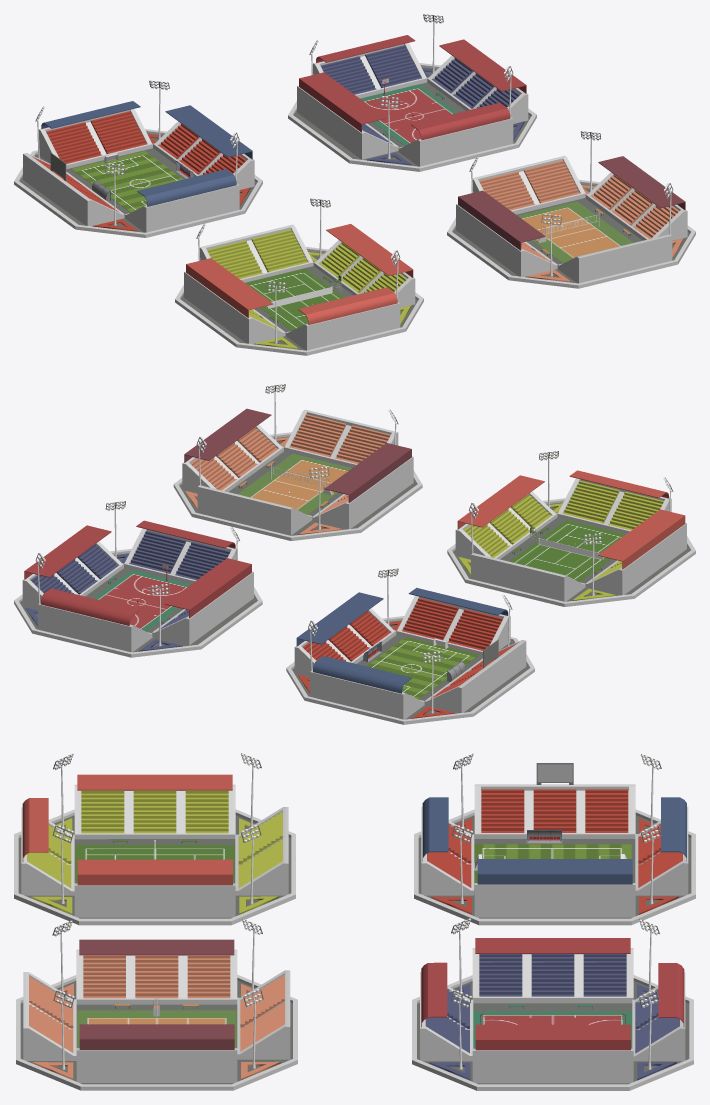
File: Cartoon Stadiums Pack.FBX
3 renders of one model, top to bottom at view 1: azimuth 30°, elevation 25°; view 2: azimuth 150°, elevation 25°; view 3: azimuth 270°, elevation 25°, orthographic. The views are drawn at different scales.
Parts seen in each view (by area): view 1: Stadium Seats (×16), Volleyball Ground, Ground 2, Football Ground, Ground 3, Ground, Ground 4, Basketball ground, Tennis Ground; view 2: Stadium Seats (×16), Volleyball Ground, Tennis Ground, Football Ground, Ground 4, Ground 2, Ground 3, Ground, Basketball ground; view 3: Stadium Seats (×16), Ground, Ground 4, Ground 2, Ground 3, Triangle Decoration (×4), Tennis Ground, Volleyball Ground, Football Ground, Basketball ground, Monitor.
Boxes of the visible parts, x1,y1,x2,y2 form: Stadium Seats (×16): (23,35,687,350); Volleyball Ground: (518,201,633,263); Ground 2: (447,180,695,288); Football Ground: (71,151,183,212); Ground 3: (14,129,262,237); Ground: (288,63,536,171); Ground 4: (175,247,423,355); Basketball ground: (360,84,457,145); Tennis Ground: (245,268,343,330); Stadium Seats (×16): (22,408,686,719); Volleyball Ground: (238,454,351,514); Tennis Ground: (509,520,625,581); Football Ground: (366,637,478,699); Ground 4: (447,498,695,606); Ground 2: (173,432,422,540); Ground 3: (286,616,534,724); Ground: (14,548,262,657); Basketball ground: (93,570,190,631); Stadium Seats (×16): (21,774,688,1083); Ground: (412,975,693,1090); Ground 4: (14,809,295,925); Ground 2: (16,974,297,1090); Ground 3: (414,809,695,925); Triangle Decoration (×4): (31,818,678,1080); Tennis Ground: (75,845,234,883); Volleyball Ground: (77,1010,236,1047); Football Ground: (474,844,631,888); Basketball ground: (473,1011,632,1048); Monitor: (536,763,573,784).
Bounding box in the file's own units: 4797 × 618 × 4951.
Materials: 17 (16 with a texture image).
